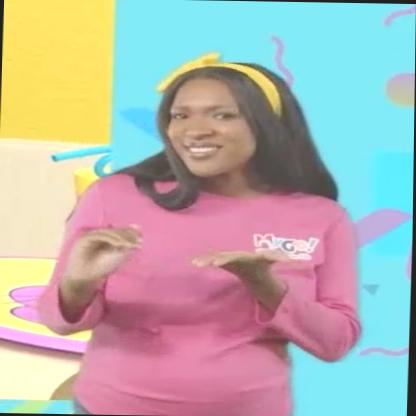ExcuseMe: (52, 202, 293, 309)
